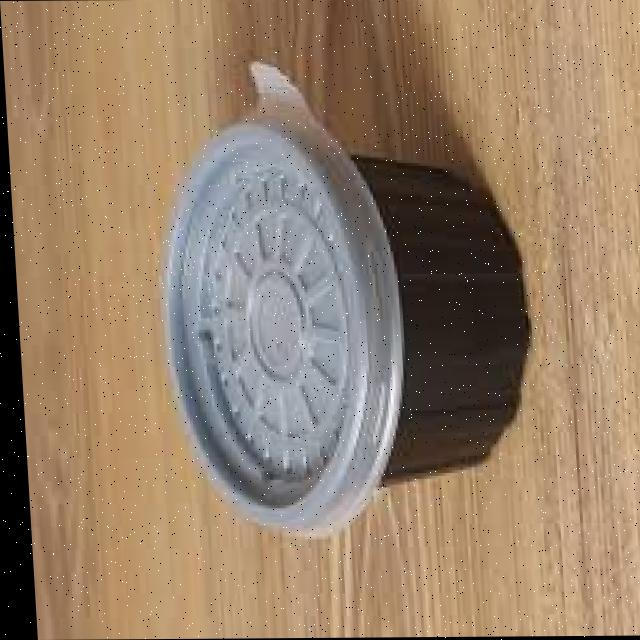disposable: (134, 52, 559, 556)
